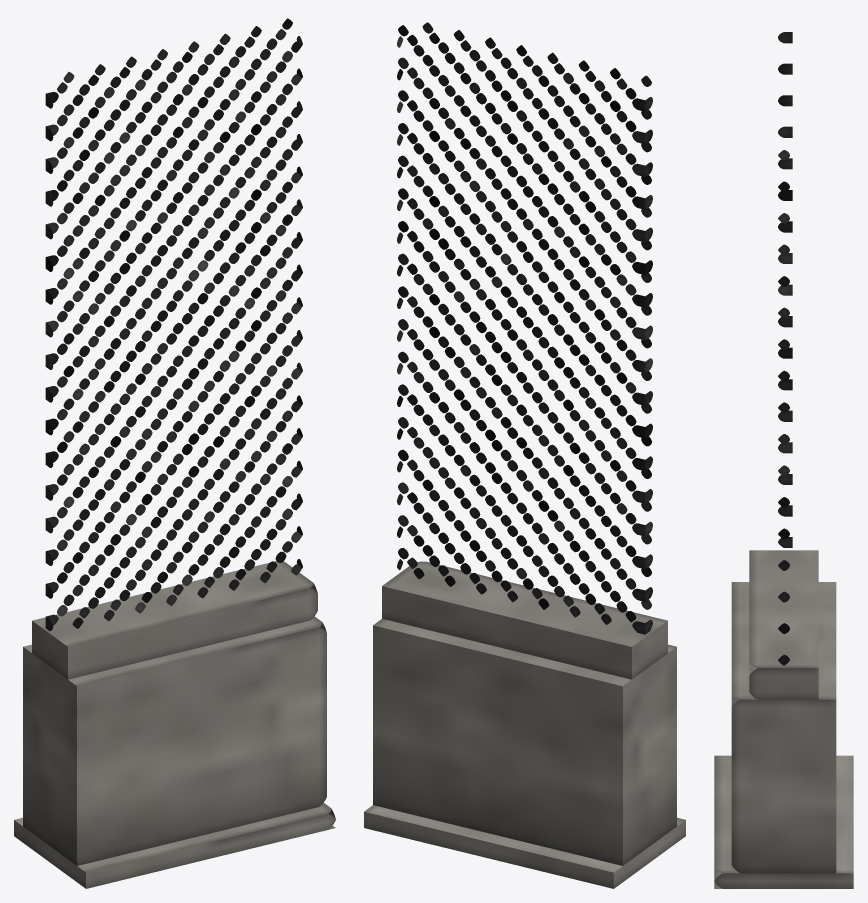
Rendered from street_barrier.obj.
3 views of the same model, side by side, from view 1: azimuth 30°, elevation 25°; view 2: azimuth 150°, elevation 25°; view 3: azimuth 270°, elevation 25° (orthographic). The views are drawn at different scales.
Visible parts, largest first — view 1: lj, lk, ll, li; view 2: lj, lk, ll, li; view 3: lj, ll, li, lk.
Boxes of the visible parts, box(x1,y1,x2,y2) form: lj: box(23, 616, 326, 865); lk: box(45, 18, 302, 631); ll: box(32, 561, 317, 679); li: box(14, 802, 335, 888); lj: box(373, 619, 676, 865); lk: box(397, 22, 652, 634); ll: box(382, 561, 667, 679); li: box(364, 805, 685, 888); lj: box(731, 582, 836, 873); ll: box(749, 550, 818, 699); li: box(714, 755, 853, 888); lk: box(778, 32, 792, 665).
Bounding box in the file's own units: 1 × 3 × 0.5.
Materials: 1 (1 with a texture image).
